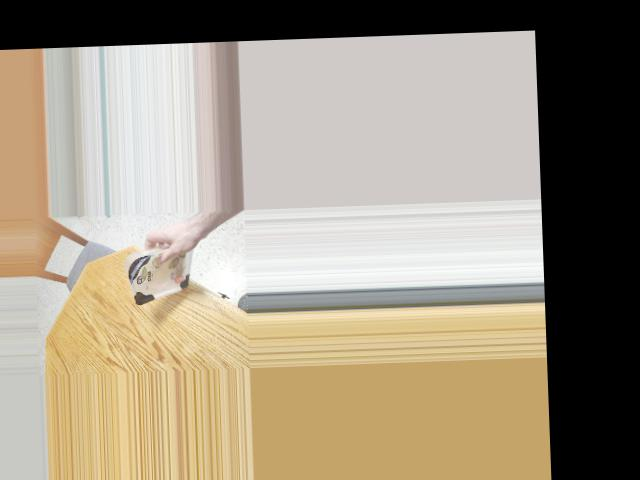cheese: (122, 246, 197, 299)
